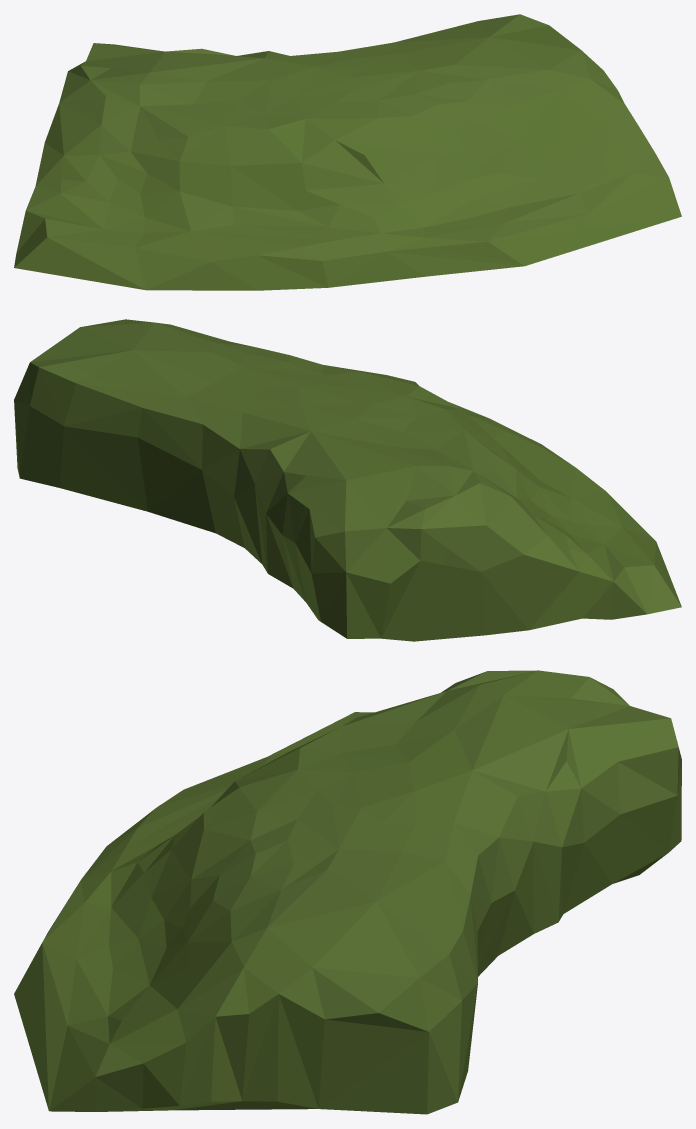
Rendered from samurai_SM_Gen_Env_Ground_River_Grass_04.gltf.
The picture shows the model from 3 angles, top to bottom: view 1: azimuth 30°, elevation 25°; view 2: azimuth 150°, elevation 25°; view 3: azimuth 270°, elevation 25°; orthographic projection. The views are drawn at different scales.
Visible parts, largest first — view 1: SM_Gen_Env_Ground_River_Grass_04; view 2: SM_Gen_Env_Ground_River_Grass_04; view 3: SM_Gen_Env_Ground_River_Grass_04.
Part boxes in pixels (<box>): SM_Gen_Env_Ground_River_Grass_04: <box>14,14,681,290</box>; SM_Gen_Env_Ground_River_Grass_04: <box>14,319,681,641</box>; SM_Gen_Env_Ground_River_Grass_04: <box>14,670,681,1114</box>.
Size of the model in its own units: 10.36 by 2.15 by 7.52.
Materials: 1 (1 with a texture image).
